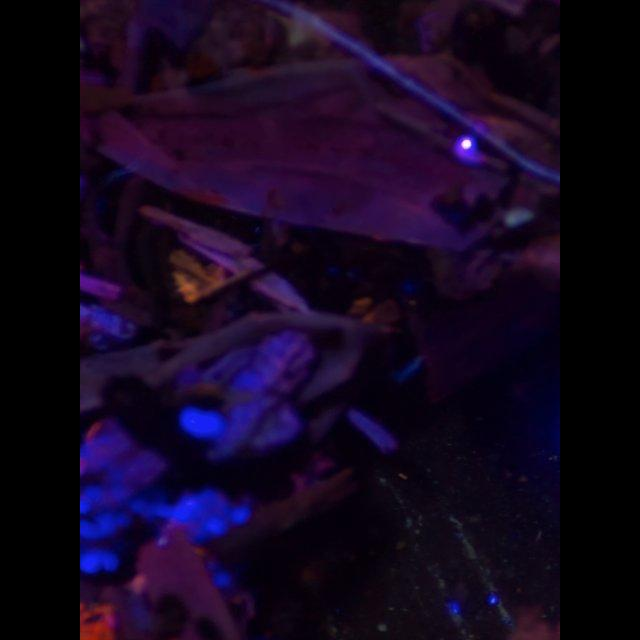microbeads: (374, 621, 386, 633)
